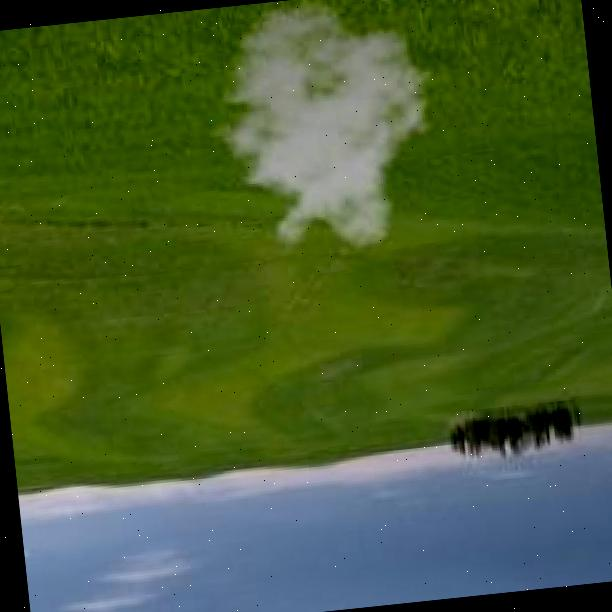smoke: (186, 0, 457, 266)
